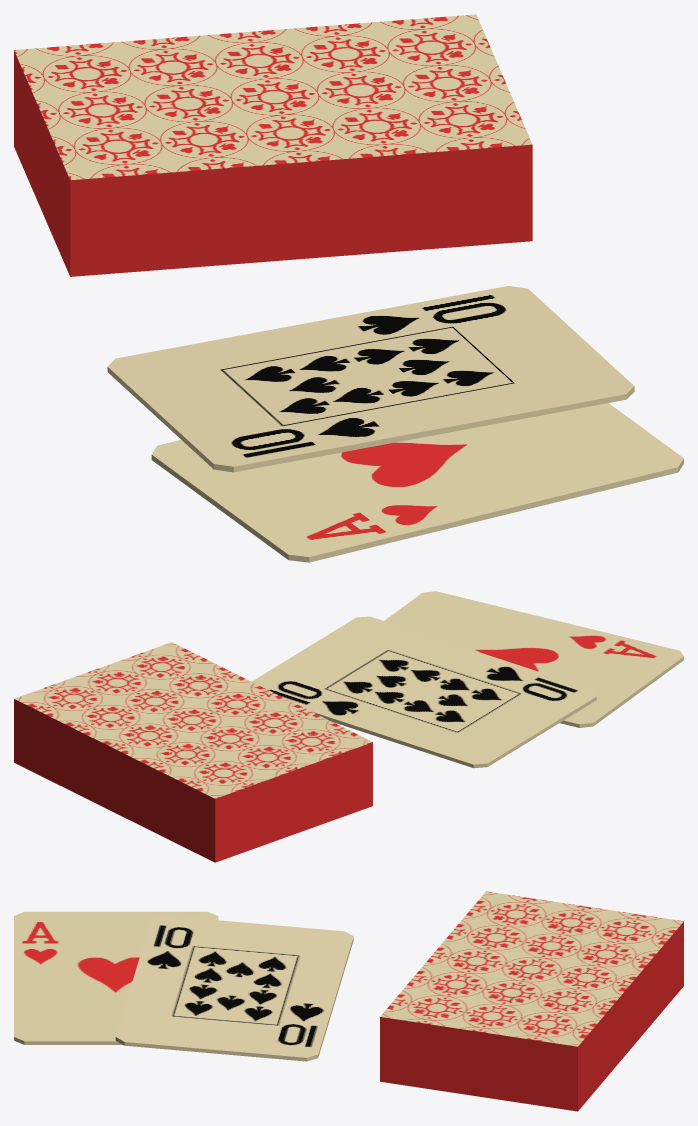
Rendered from PlayingcardSet.fbx.
3 renders of one model, top to bottom at view 1: azimuth 30°, elevation 25°; view 2: azimuth 150°, elevation 25°; view 3: azimuth 270°, elevation 25°, orthographic. The views are drawn at different scales.
Parts seen in each view (by area): view 1: PlayingcardPacket, Playingcard2, Playingcard1; view 2: PlayingcardPacket, Playingcard2, Playingcard1; view 3: PlayingcardPacket, Playingcard2, Playingcard1.
Part boxes in pixels (x1=…): PlayingcardPacket: x1=14, y1=14, x2=532, y2=276; Playingcard2: x1=107, y1=286, x2=634, y2=472; Playingcard1: x1=151, y1=403, x2=683, y2=562; PlayingcardPacket: x1=14, y1=642, x2=372, y2=862; Playingcard2: x1=252, y1=616, x2=596, y2=768; Playingcard1: x1=384, y1=591, x2=683, y2=727; PlayingcardPacket: x1=380, y1=891, x2=683, y2=1111; Playingcard2: x1=115, y1=915, x2=353, y2=1061; Playingcard1: x1=14, y1=911, x2=218, y2=1044.
Size of the model in its own units: 13.28 by 2.08 by 19.13.
Materials: 1 (1 with a texture image).
